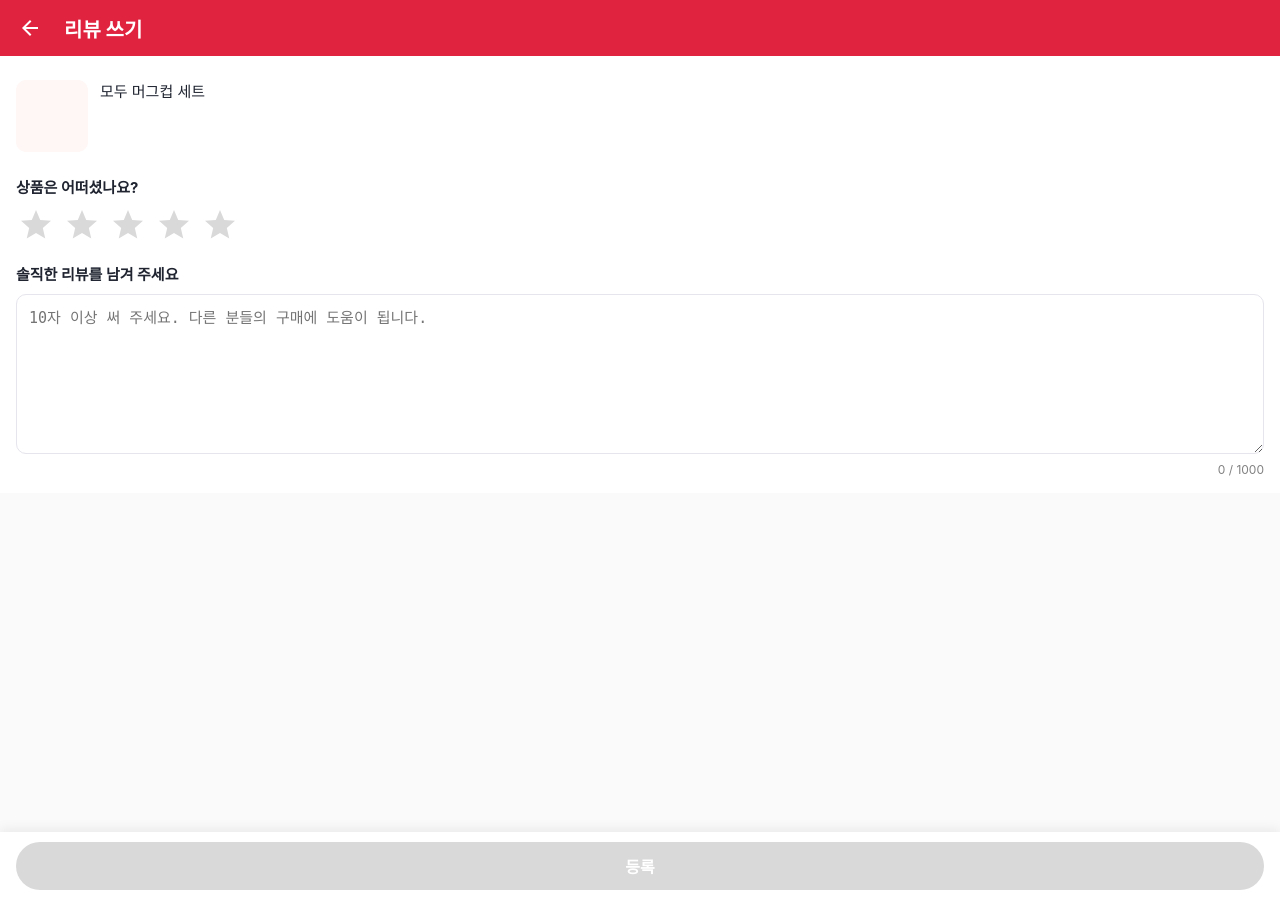
ReviewFormPage › shows the server message on 400 and blocks cancelled orders
Click the radio button named "4점": (174, 227) [154,207,194,247]
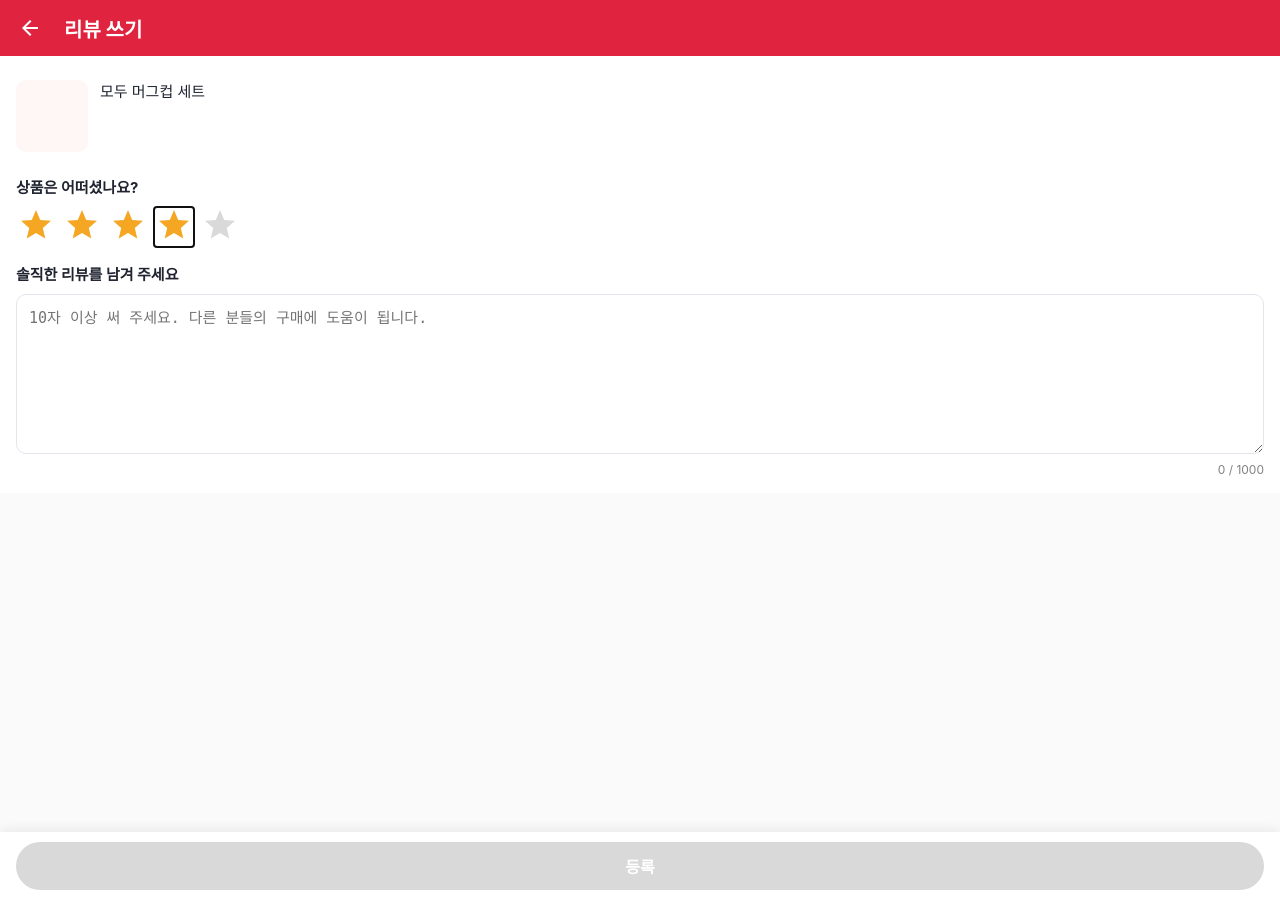
In the text box labelled "솔직한 리뷰를 남겨 주세요": (640, 374) [16,294,1264,454], type "열 글자는 넘는 리뷰 내용입니다"
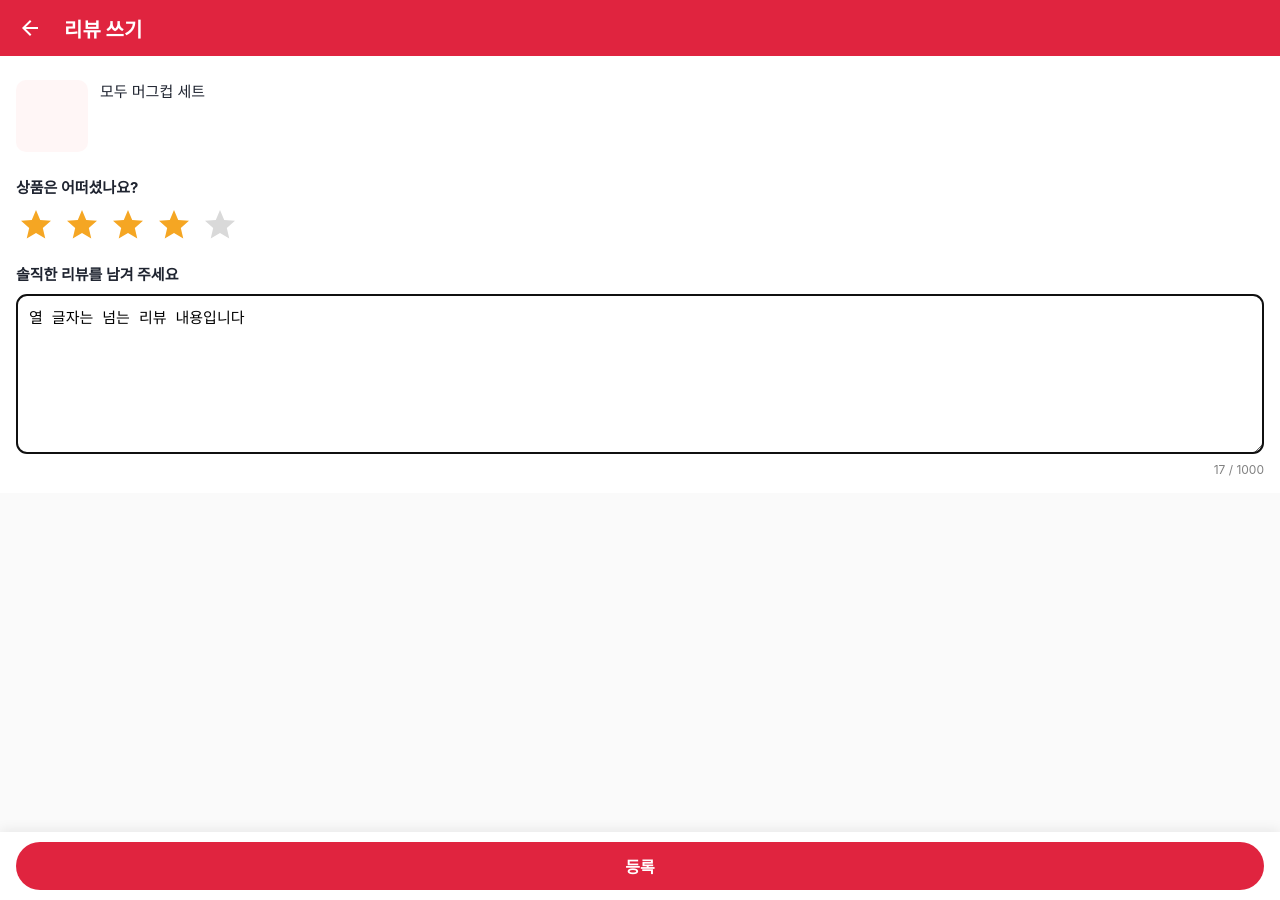
Click the button "등록": (640, 866) [16,842,1264,890]
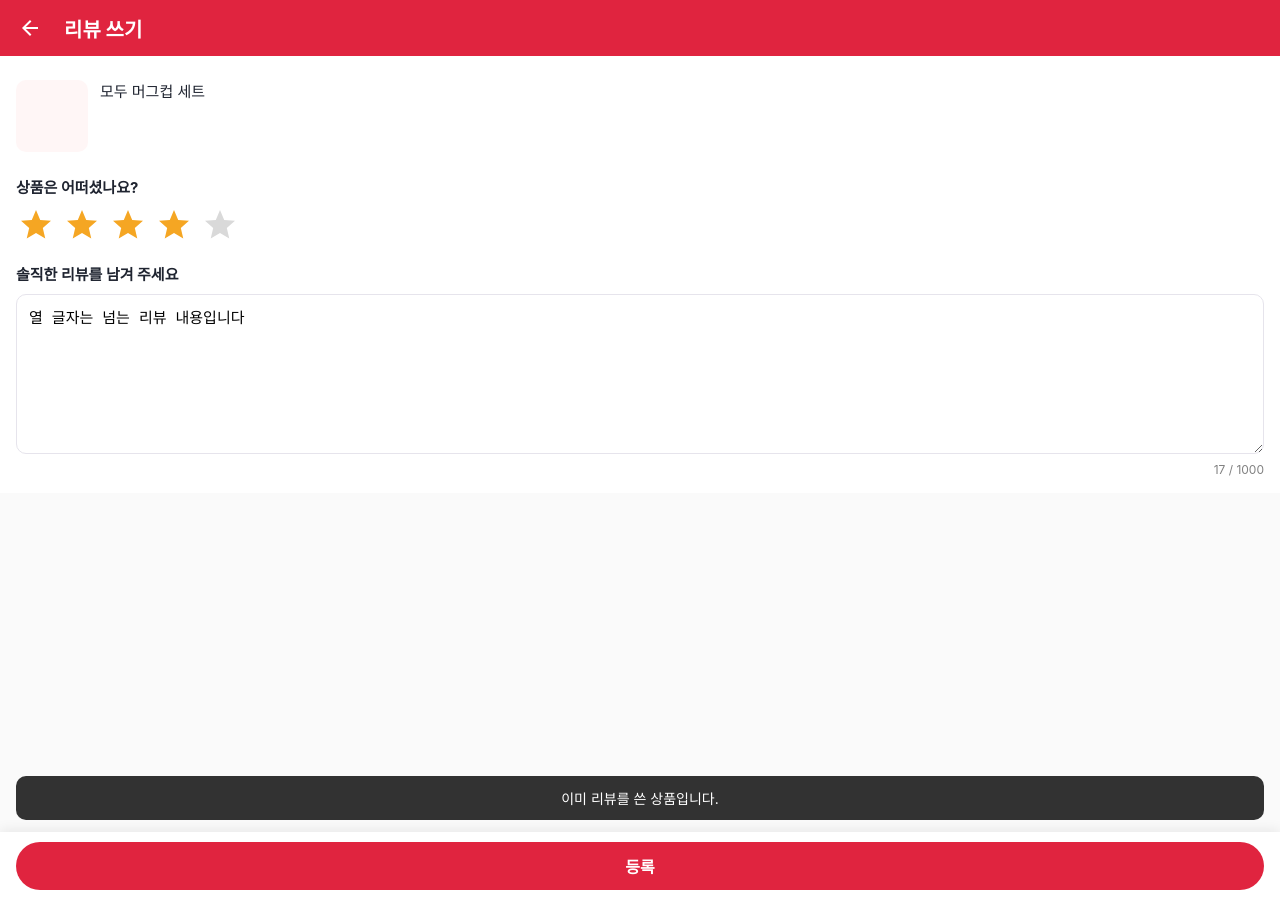
Expected: the text "이미 리뷰를 쓴 상품입니다." is shown, [16,776,1264,820]
